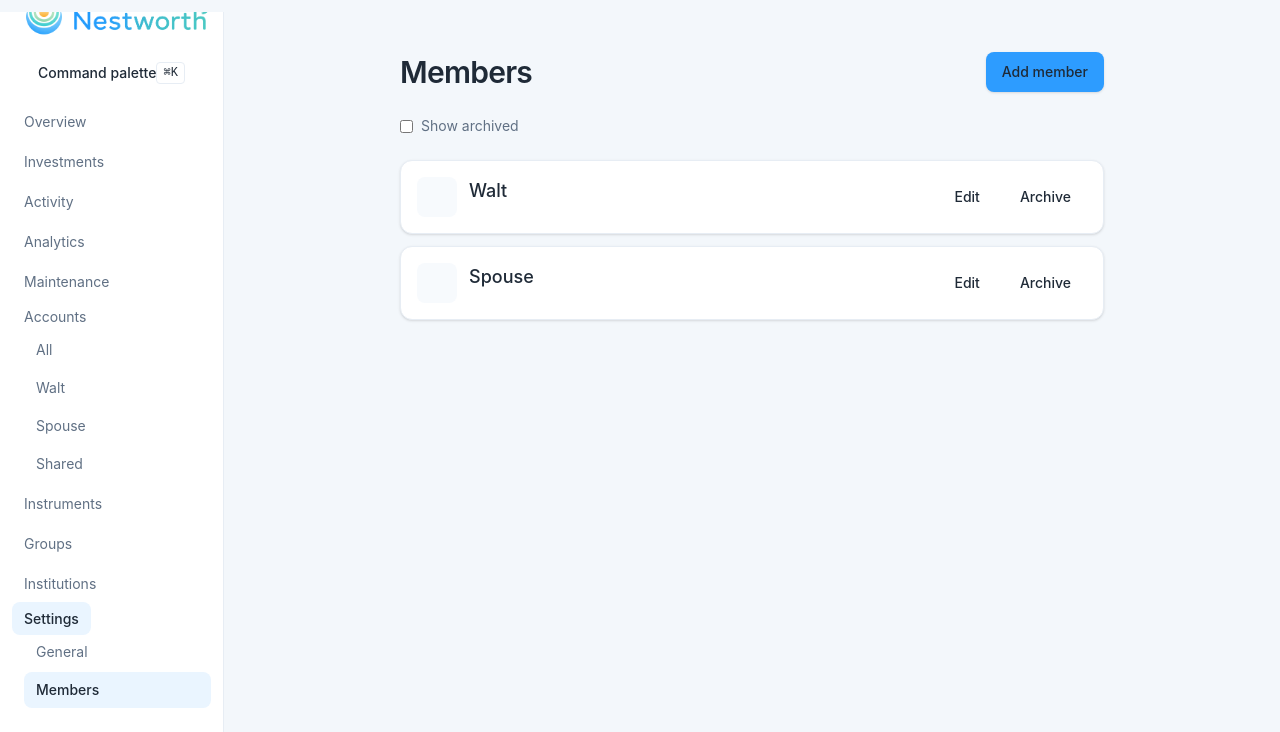
Test case: members page › updates a member and refreshes the list
(page scrolled)
Check: the navigation bar named "Household" is shown, box [0,12,224,731]
Click the link "Members" at (118, 690), box [24,672,211,708]
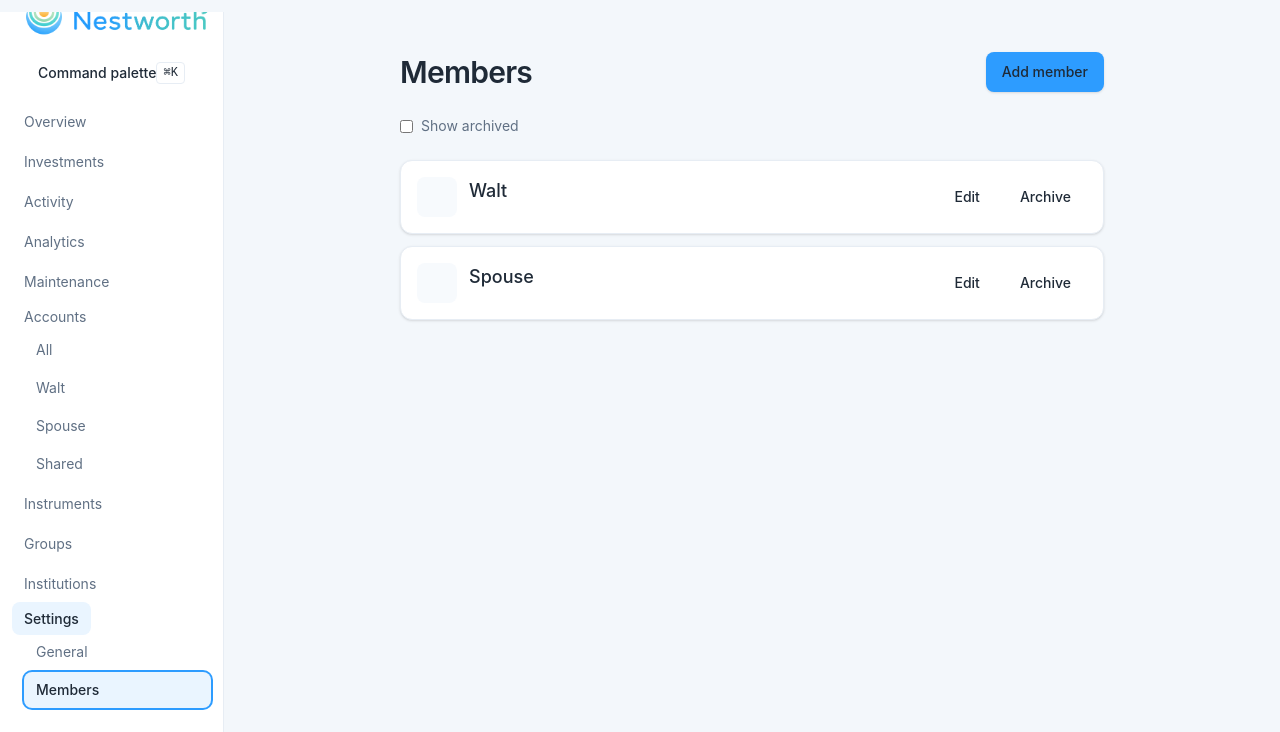
Check: the heading "Walt" is shown, box [469,177,507,205]
Click the 1st button "Edit" at (967, 197), box [938,177,996,217]
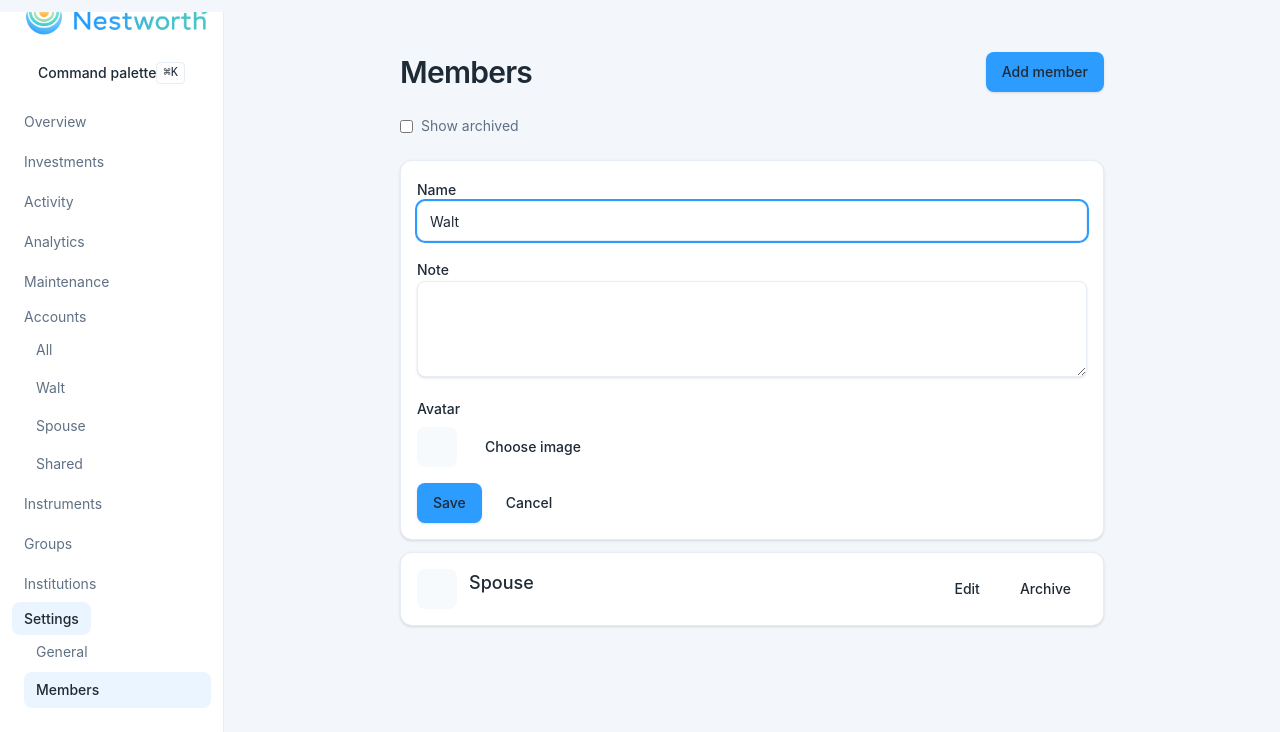
Replace the text in the field labelled "Name" with "Walt Wang" at (752, 221), box [417,201,1087,241]
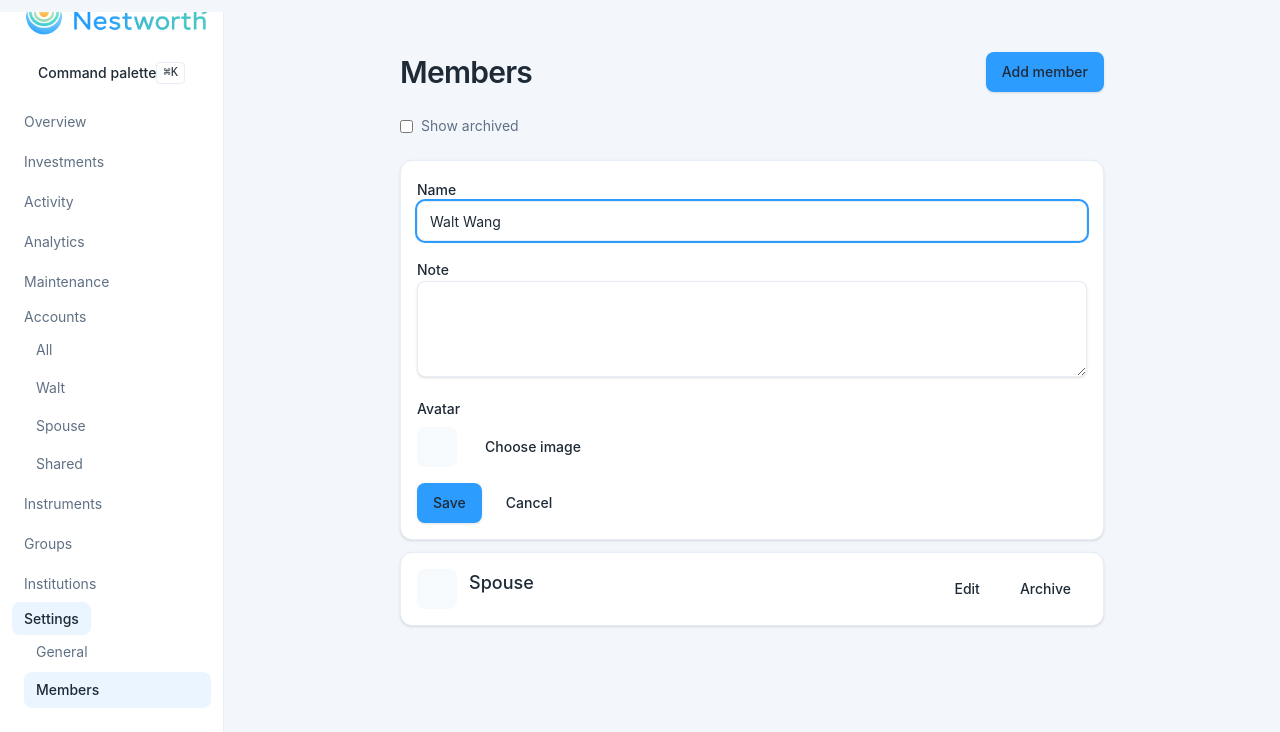
Click the button "Save" at (449, 503), box [417,483,482,523]
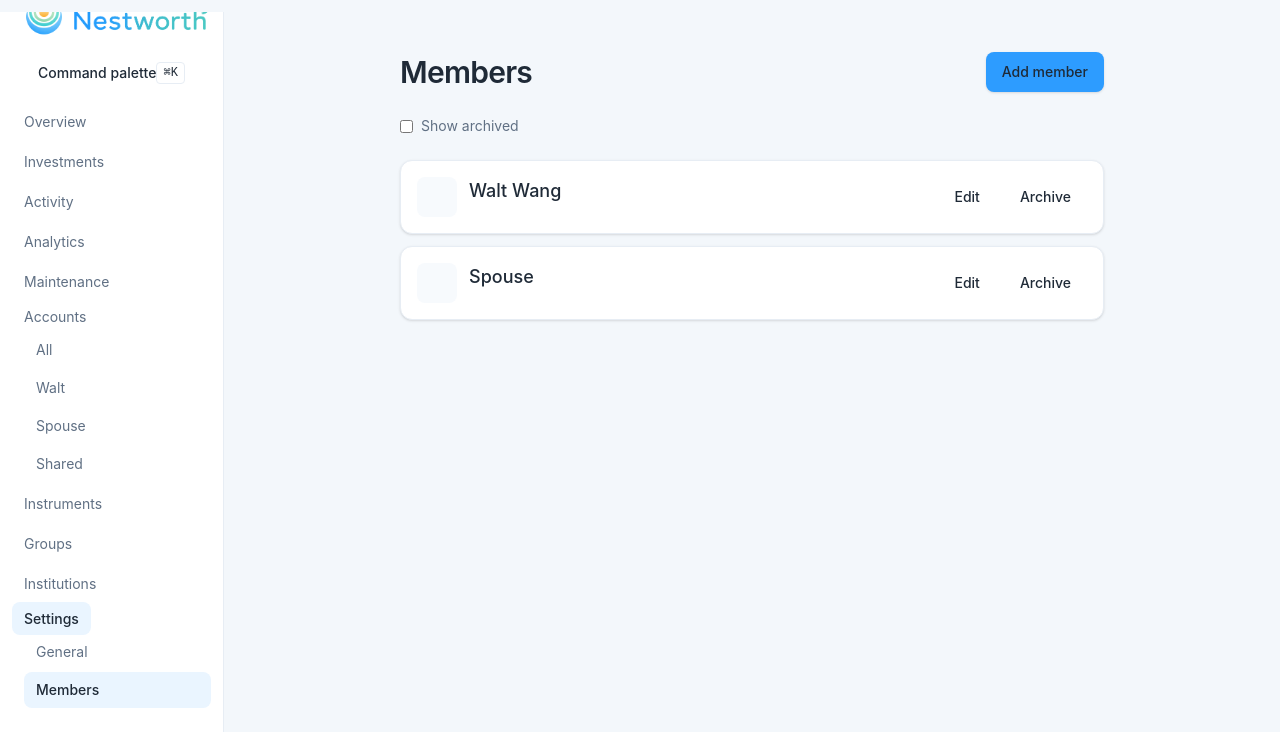
Check: the heading "Walt Wang" is shown, box [469,177,561,205]
